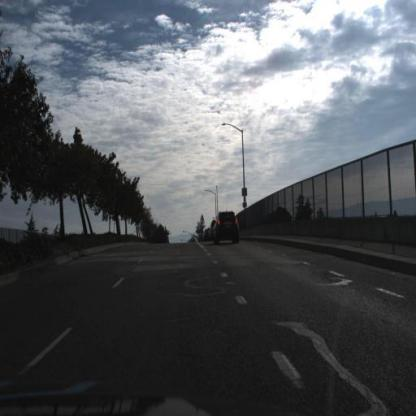car: (215, 210, 240, 244), (209, 221, 217, 240)
